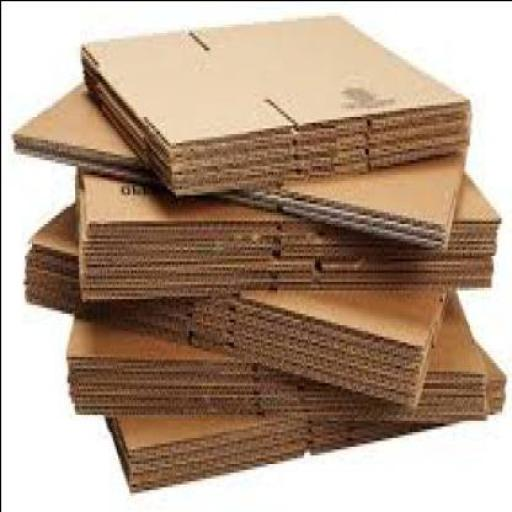cardboard: (24, 194, 450, 405), (12, 81, 466, 246), (83, 11, 472, 197), (103, 336, 506, 496), (66, 286, 488, 425), (76, 168, 502, 301)
